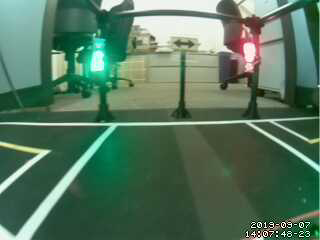Left_Right_sign: (170, 35, 200, 52)
Traffic_light_green: (92, 39, 105, 72)
Traffic_light_red: (242, 43, 257, 69)
